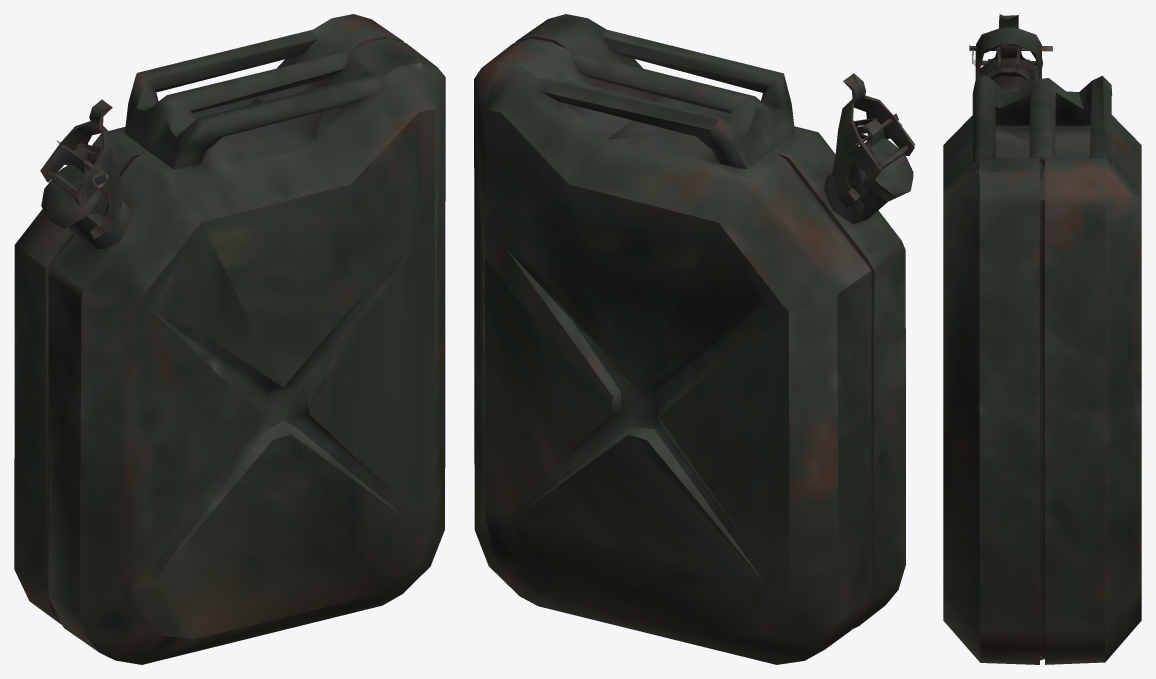
Rendered from metal_jerrycan_green.fbx.
The picture shows the model from 3 angles, left to right: view 1: azimuth 30°, elevation 25°; view 2: azimuth 150°, elevation 25°; view 3: azimuth 270°, elevation 25°; orthographic projection. The views are drawn at different scales.
Visible parts, largest first — view 1: metal_jerrycan_green; view 2: metal_jerrycan_green; view 3: metal_jerrycan_green.
Boxes of the visible parts, x1=… form: metal_jerrycan_green: x1=14, y1=14, x2=445, y2=664; metal_jerrycan_green: x1=474, y1=14, x2=914, y2=664; metal_jerrycan_green: x1=943, y1=14, x2=1141, y2=664.
Size of the model in its own units: 0.361 by 0.4999 by 0.171.
